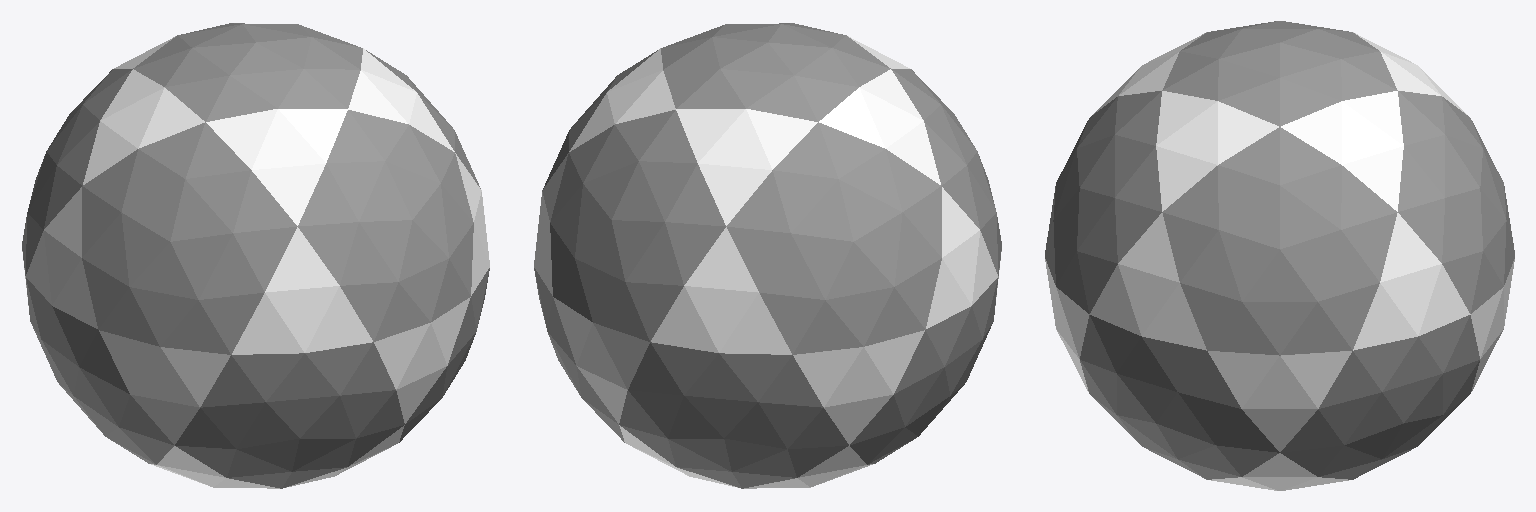
File: physical-sphere.obj
3 renders of one model, left to right at view 1: azimuth 30°, elevation 25°; view 2: azimuth 150°, elevation 25°; view 3: azimuth 270°, elevation 25°, orthographic.
Parts seen in each view (by area): view 1: Icosphere; view 2: Icosphere; view 3: Icosphere.
Boxes of the visible parts, x1,y1,x2,y2 form: Icosphere: [22, 23, 489, 488]; Icosphere: [534, 23, 1001, 488]; Icosphere: [1045, 21, 1514, 490].
Bounding box in the file's own units: 0.9678 × 0.9678 × 0.9678.